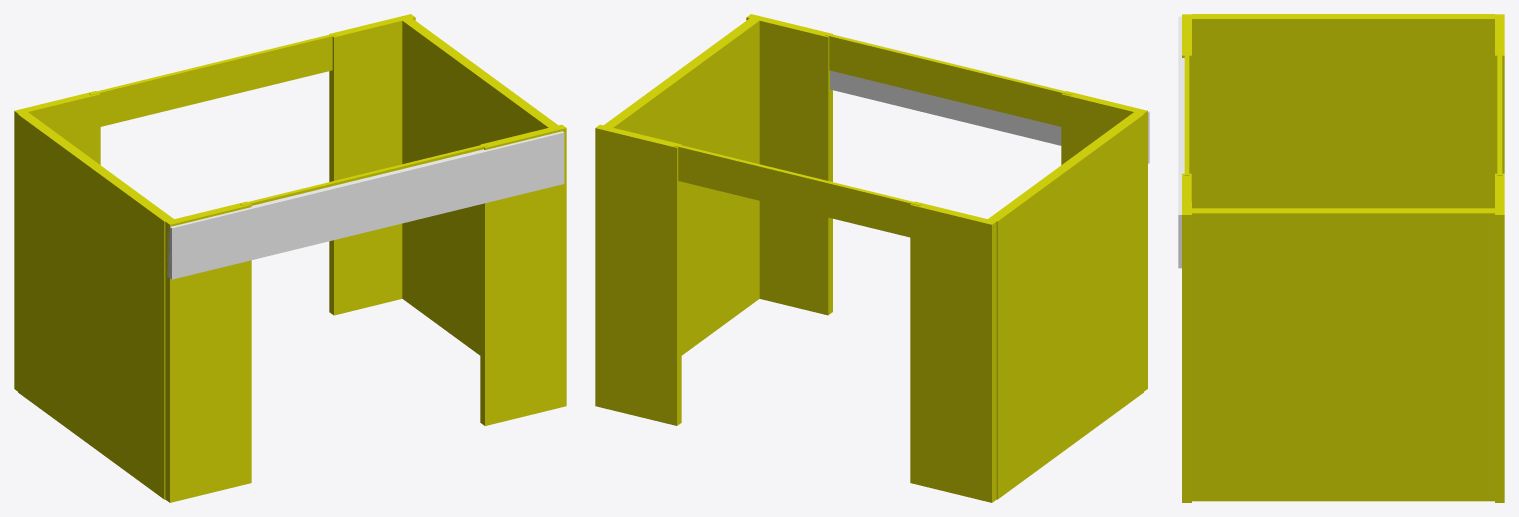
Rendered from phongdoitau.fbx.
The picture shows the model from 3 angles, left to right: view 1: azimuth 30°, elevation 25°; view 2: azimuth 150°, elevation 25°; view 3: azimuth 270°, elevation 25°; orthographic projection. The views are drawn at different scales.
Visible parts, largest first — view 1: VBox004, VBox009, VBox005, VBox001, VBox002, VBox007, VBox008, VBox006, VBox003; view 2: VBox004, VBox006, VBox007, VBox005, VBox002, VBox008, VBox003, VBox009, VBox001; view 3: VBox005, VBox004, VBox002, VBox007, VBox009, VBox006, VBox001, VBox003, VBox008.
Boxes of the visible parts, x1,y1,x2,y2 form: VBox004: [18, 112, 173, 499]; VBox009: [167, 131, 564, 279]; VBox005: [402, 18, 558, 355]; VBox001: [165, 201, 251, 502]; VBox002: [480, 124, 566, 425]; VBox007: [329, 14, 415, 315]; VBox008: [89, 33, 336, 126]; VBox006: [14, 91, 100, 391]; VBox003: [240, 144, 487, 205]; VBox004: [988, 112, 1143, 499]; VBox006: [910, 201, 996, 502]; VBox007: [595, 124, 681, 425]; VBox005: [603, 18, 759, 355]; VBox002: [746, 14, 832, 315]; VBox008: [674, 144, 921, 237]; VBox003: [825, 33, 1072, 126]; VBox009: [830, 34, 1149, 163]; VBox001: [1061, 91, 1147, 391]; VBox005: [1192, 208, 1494, 501]; VBox004: [1192, 14, 1494, 208]; VBox002: [1182, 173, 1191, 502]; VBox007: [1495, 173, 1504, 502]; VBox009: [1178, 16, 1184, 268]; VBox006: [1495, 14, 1504, 173]; VBox001: [1182, 14, 1191, 201]; VBox003: [1184, 51, 1189, 175]; VBox008: [1497, 51, 1502, 175].
Size of the model in its own units: 24.31 by 16.28 by 16.7.
